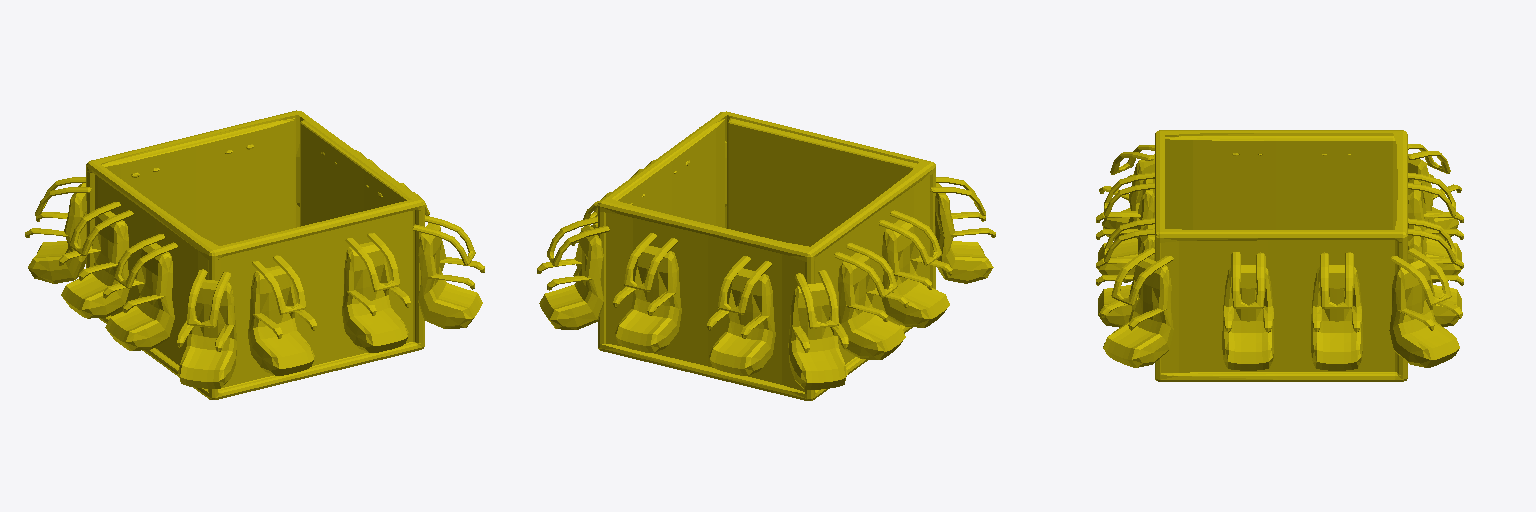
Rendered from seat.obj.
3 views of the same model, side by side, from view 1: azimuth 30°, elevation 25°; view 2: azimuth 150°, elevation 25°; view 3: azimuth 270°, elevation 25° (orthographic).
Parts seen in each view (by area): view 1: Cube.002_Cube.032; view 2: Cube.002_Cube.032; view 3: Cube.002_Cube.032.
Part boxes in pixels (bbox=[...]): Cube.002_Cube.032: bbox=[25, 110, 484, 399]; Cube.002_Cube.032: bbox=[537, 111, 995, 400]; Cube.002_Cube.032: bbox=[1096, 130, 1463, 381].
Bounding box in the file's own units: 2.56 × 1.15 × 2.58.